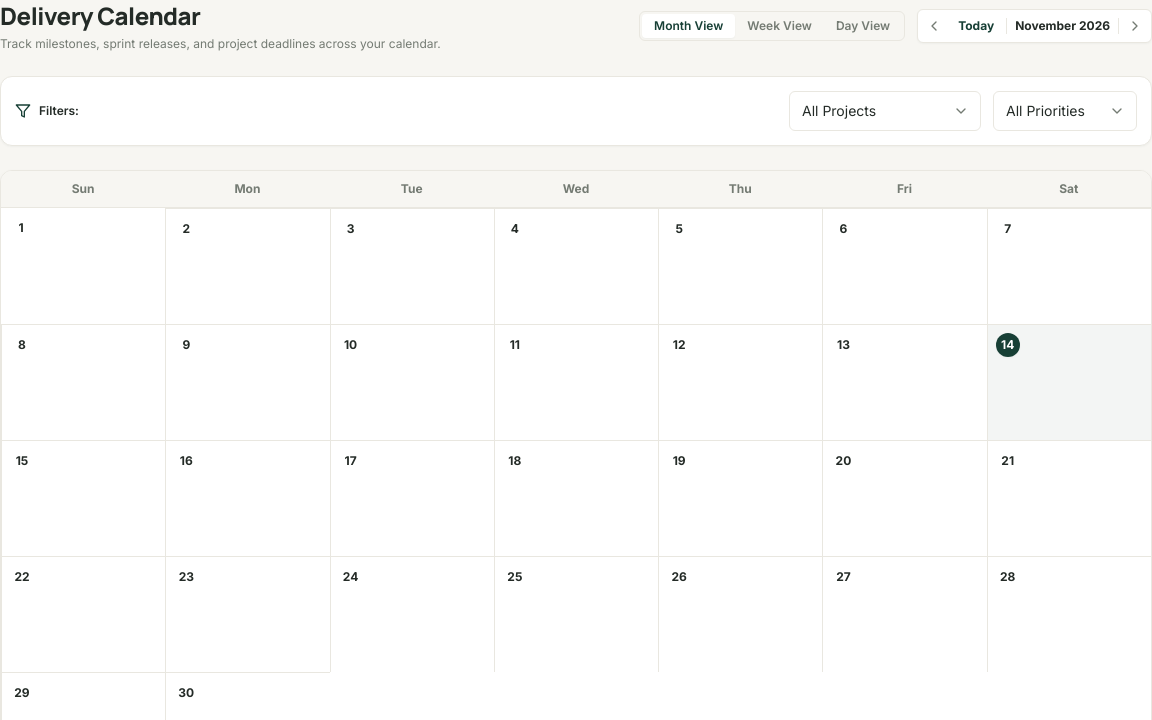
Scenario: Stage 08: Notifications, Calendar and Analytics › Delivery Calendar Page › switches views to Week View and Day View
The image size is (1152, 720).
Click the button "Week View". click: (780, 26)
box: [735,14,824,38]
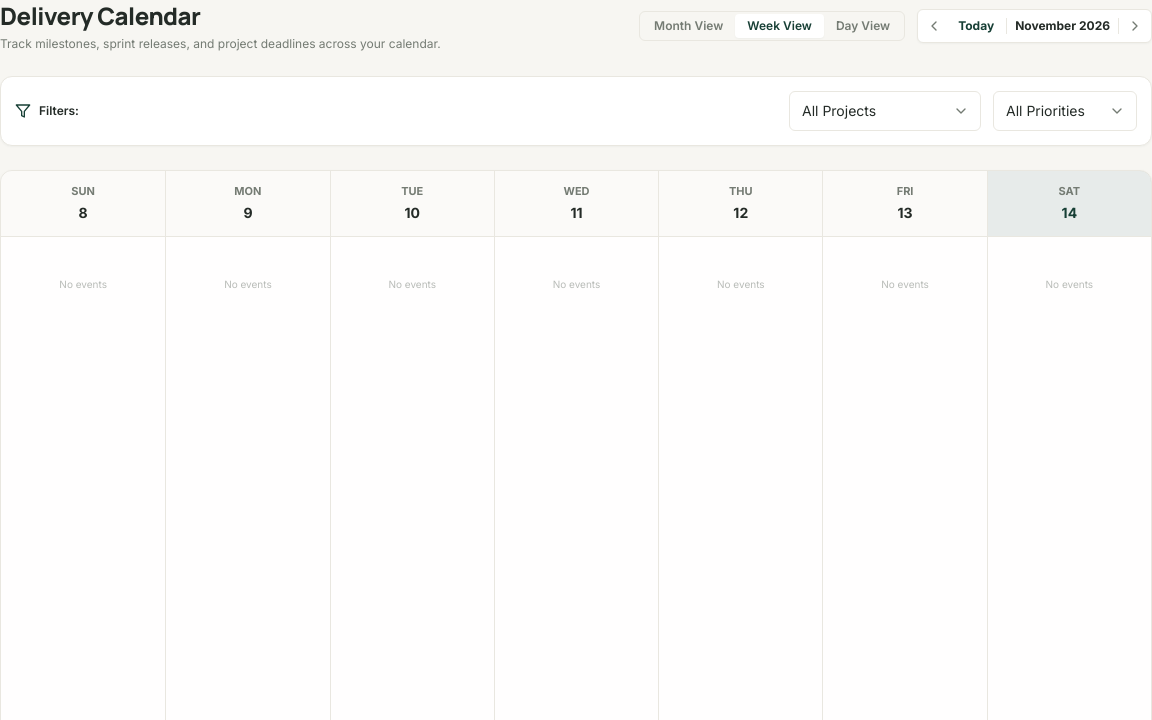
Now the button "Week View" has class "text-forest", box [735,14,824,38]
Click the button "Day View". click: (863, 26)
box: [824,14,902,38]
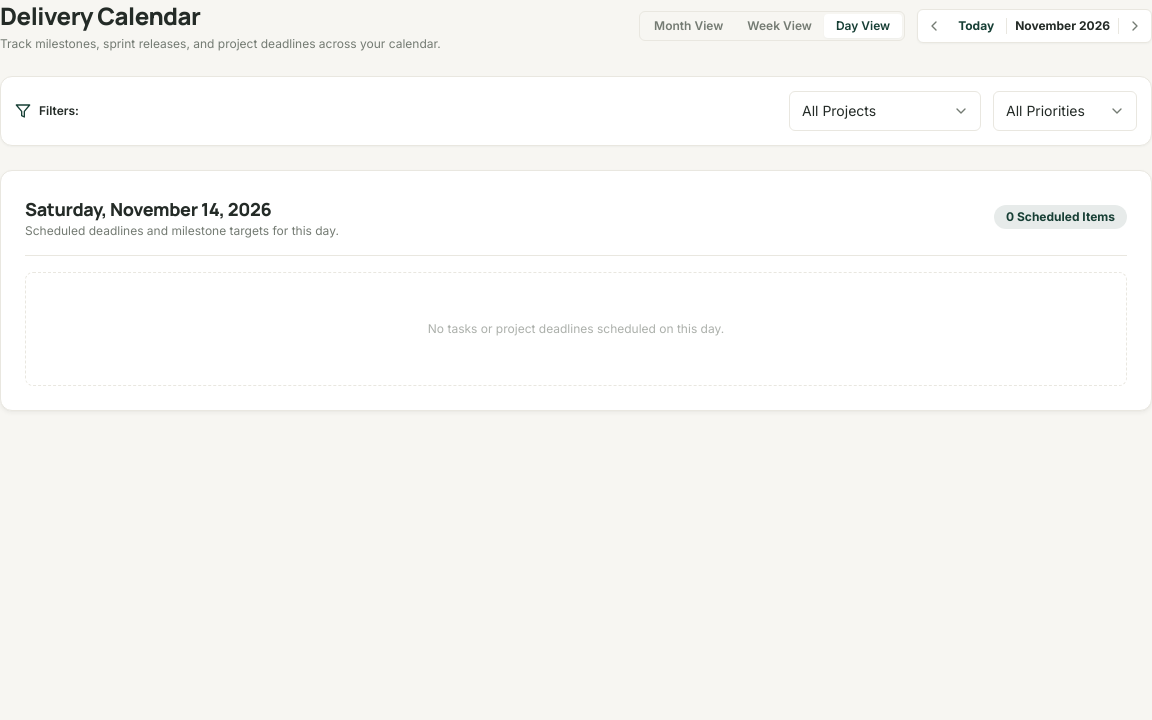
Now the button "Day View" has class "text-forest", box [824,14,902,38]
